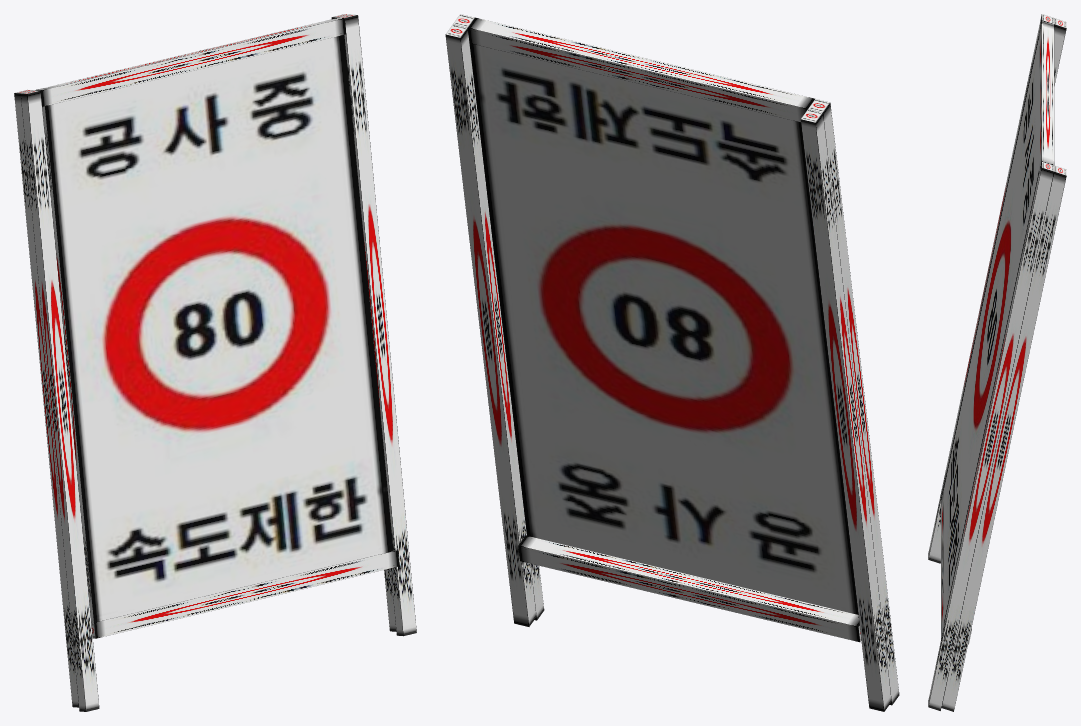
The model's file is 80속도제한.fbx.
3 renders of one model, left to right at view 1: azimuth 30°, elevation 25°; view 2: azimuth 150°, elevation 25°; view 3: azimuth 270°, elevation 25°, orthographic. The views are drawn at different scales.
Visible parts, largest first — view 1: _80속도제한; view 2: _80속도제한; view 3: _80속도제한.
Boxes of the visible parts, <box> form: _80속도제한: <box>14,14,416,711</box>; _80속도제한: <box>445,14,899,711</box>; _80속도제한: <box>928,14,1066,711</box>.
Size of the model in its own units: 96.12 by 160 by 36.82.
